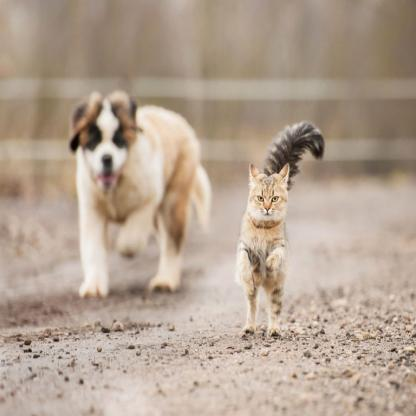cat: (242, 134, 310, 310)
dog: (67, 87, 199, 259)
